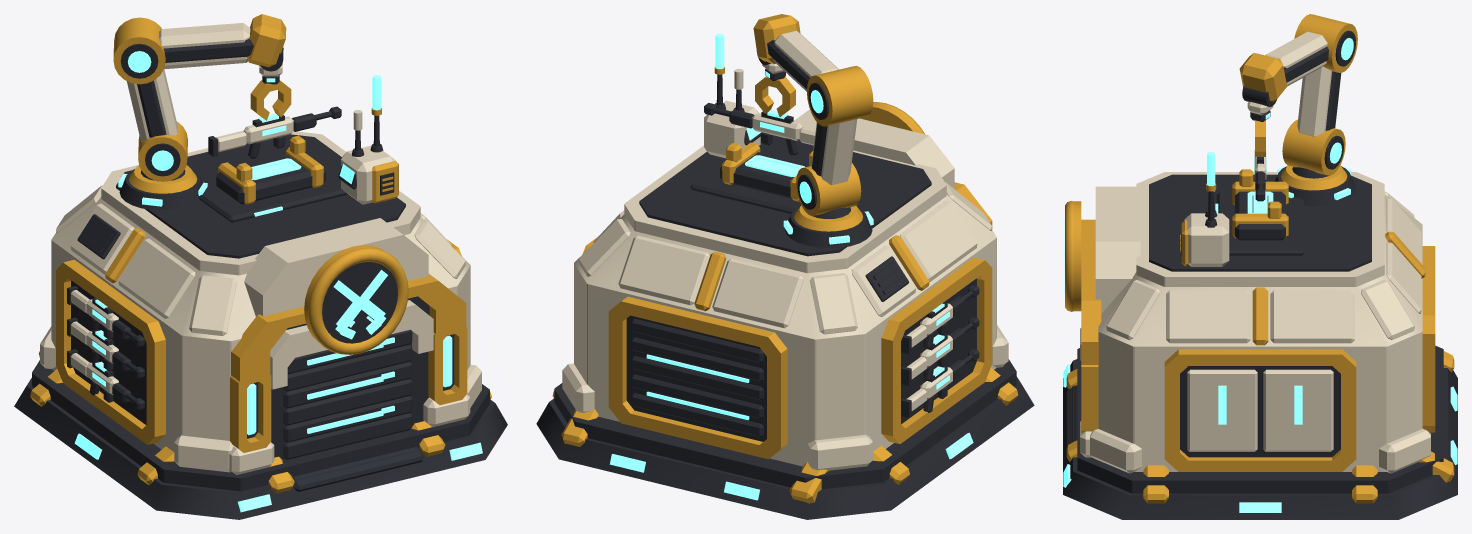
File: ambron_armory.glb
3 renders of one model, left to right at view 1: azimuth 30°, elevation 25°; view 2: azimuth 150°, elevation 25°; view 3: azimuth 270°, elevation 25°, orthographic. The views are drawn at different scales.
Parts seen in each view (by area): view 1: body; view 2: body; view 3: body.
Boxes of the visible parts, box(x1,y1,x2,y2) form: body: box(14, 14, 507, 519); body: box(536, 14, 1034, 519); body: box(1063, 14, 1457, 519).
Bounding box in the file's own units: 2.8 × 2.99 × 2.8.
